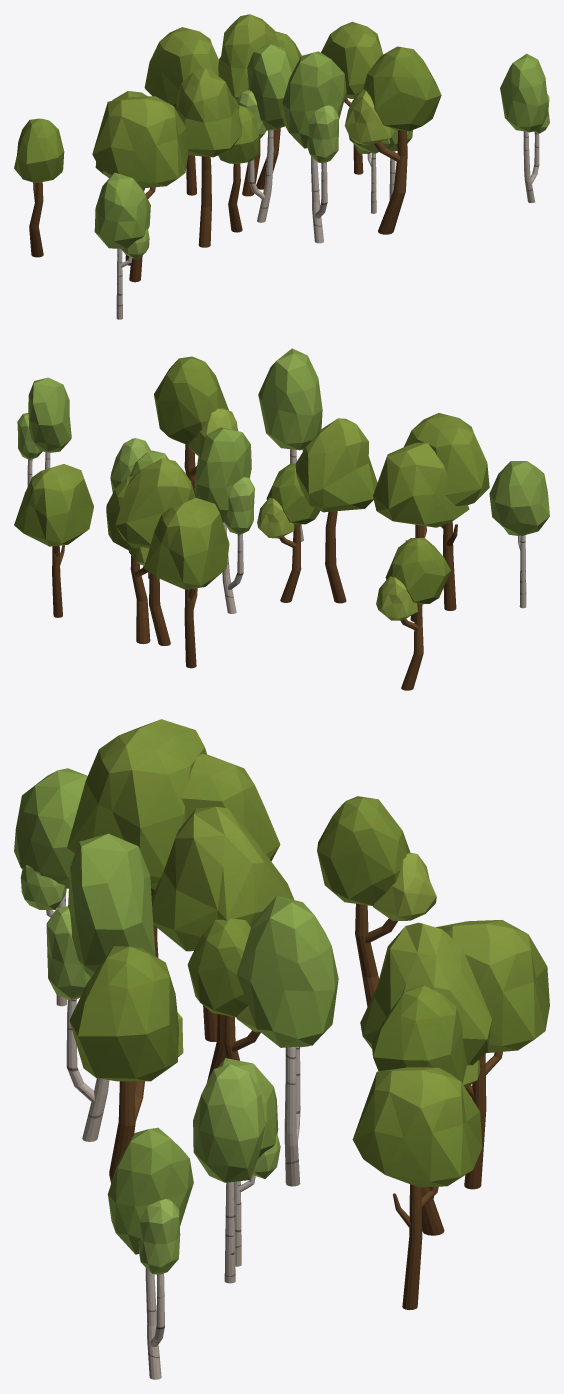
The model's file is Trees16.gltf.
The picture shows the model from 3 angles, top to bottom: view 1: azimuth 30°, elevation 25°; view 2: azimuth 150°, elevation 25°; view 3: azimuth 270°, elevation 25°; orthographic projection. The views are drawn at different scales.
Parts seen in each view (by area): view 1: Beechtree2 - copy.013, Beechtree3 - copy.036, BirchTree2 - copy.025, Beechtree1 - copy.015, BirchTree2 - copy.034, BirchTree3 - copy.022, Beechtree3 - copy.044, BirchTree2 - copy.002, Beechtree2 - copy.028, Beechtree1 - copy.010, Beechtree3 - copy.022, Beechtree2 - copy.015 (+3 smaller); view 2: Beechtree1 - copy.015, Beechtree3 - copy.044, BirchTree2 - copy.034, Beechtree3 - copy.022, Beechtree3 - copy.042, Beechtree2 - copy.013, Beechtree3 - copy.036, BirchTree2 - copy.025, Beechtree2 - copy.028, Beechtree1 - copy.010, BirchTree3 - copy.022, BirchTree2 - copy.002 (+3 smaller); view 3: Beechtree3 - copy.022, BirchTree2 - copy.025, BirchTree2 - copy.034, Beechtree2 - copy.013, Beechtree3 - copy.036, Beechtree1 - copy.015, Beechtree2 - copy.028, BirchTree2 - copy.002, Beechtree3 - copy.044, Beechtree1 - copy.010, BirchTree1 - copy.021, BirchTree3 - copy.022 (+4 smaller).
Part boxes in pixels (x1,y1,x2,y2): Beechtree2 - copy.013: [344, 46, 441, 234]; Beechtree3 - copy.036: [92, 96, 188, 282]; BirchTree2 - copy.025: [282, 51, 346, 243]; Beechtree1 - copy.015: [175, 67, 241, 247]; BirchTree2 - copy.034: [236, 44, 293, 222]; BirchTree3 - copy.022: [94, 172, 150, 319]; Beechtree3 - copy.044: [144, 27, 219, 195]; BirchTree2 - copy.002: [500, 53, 549, 202]; Beechtree2 - copy.028: [14, 118, 64, 257]; Beechtree1 - copy.010: [218, 14, 280, 196]; Beechtree3 - copy.022: [321, 21, 383, 174]; Beechtree2 - copy.015: [218, 105, 259, 232]; Beechtree1 - copy.015: [295, 418, 377, 603]; Beechtree3 - copy.044: [144, 498, 229, 668]; BirchTree2 - copy.034: [194, 427, 254, 613]; Beechtree3 - copy.022: [14, 464, 93, 617]; Beechtree3 - copy.042: [373, 442, 469, 621]; Beechtree2 - copy.013: [154, 356, 238, 492]; Beechtree3 - copy.036: [404, 413, 489, 610]; BirchTree2 - copy.025: [258, 348, 322, 541]; Beechtree2 - copy.028: [376, 537, 450, 690]; Beechtree1 - copy.010: [115, 458, 195, 645]; BirchTree3 - copy.022: [489, 461, 549, 608]; BirchTree2 - copy.002: [17, 377, 71, 486]; Beechtree3 - copy.022: [352, 1067, 482, 1310]; BirchTree2 - copy.025: [46, 833, 155, 1141]; BirchTree2 - copy.034: [236, 896, 338, 1186]; Beechtree2 - copy.013: [69, 946, 183, 1183]; Beechtree3 - copy.036: [67, 719, 206, 957]; Beechtree1 - copy.015: [151, 806, 294, 1082]; Beechtree2 - copy.028: [317, 796, 436, 1006]; BirchTree2 - copy.002: [107, 1127, 193, 1379]; Beechtree3 - copy.044: [436, 920, 549, 1189]; Beechtree1 - copy.010: [360, 922, 491, 1198]; BirchTree1 - copy.021: [193, 1064, 265, 1283]; BirchTree3 - copy.022: [14, 768, 87, 1006].
Bounding box in the file's own units: 28.94 × 12.65 × 16.9.
Materials: 6 (6 with a texture image).
